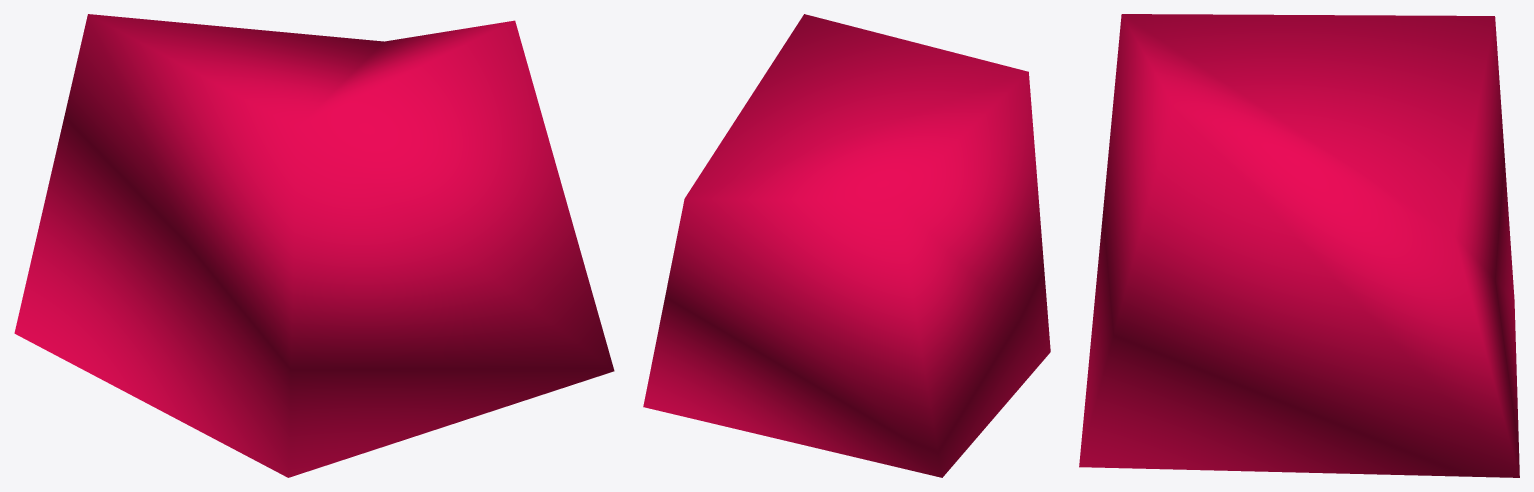
Rendered from rock5.glb.
The picture shows the model from 3 angles, left to right: view 1: azimuth 30°, elevation 25°; view 2: azimuth 150°, elevation 25°; view 3: azimuth 270°, elevation 25°; orthographic projection. The views are drawn at different scales.
Parts seen in each view (by area): view 1: rock.005; view 2: rock.005; view 3: rock.005.
Part boxes in pixels (<box>): rock.005: <box>14,14,614,477</box>; rock.005: <box>643,14,1050,477</box>; rock.005: <box>1079,14,1519,477</box>.
Bounding box in the file's own units: 3.77 × 3.43 × 3.66.
